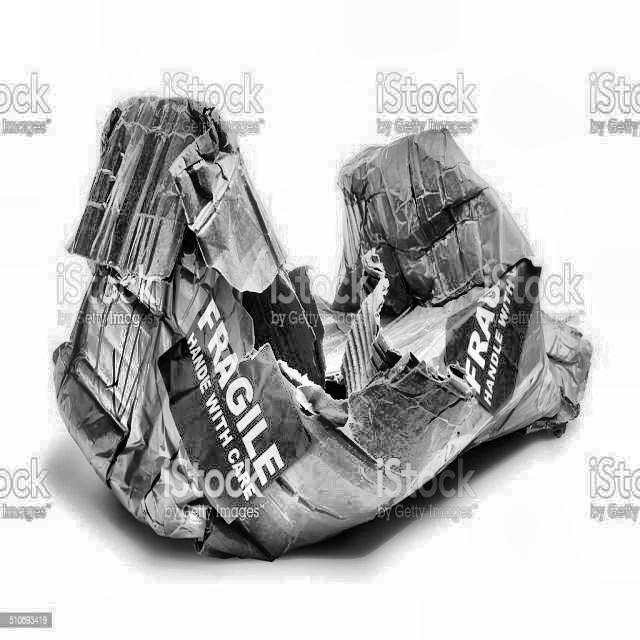box: (43, 85, 601, 566)
hole: (232, 258, 352, 399)
